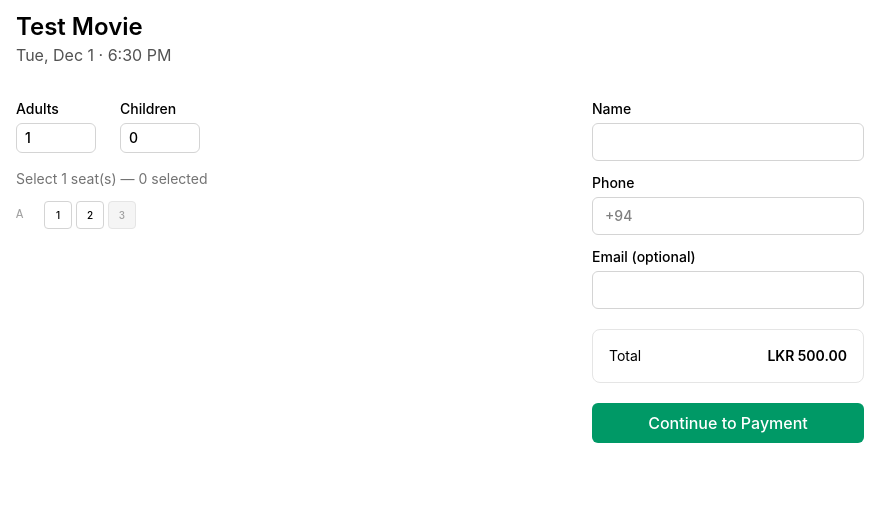
Test: SeatBookingPage › blocks submission until the seat count matches the tickets
Type "Test Customer" into the field labelled "Name" at [728, 142], box [592,123,864,161]
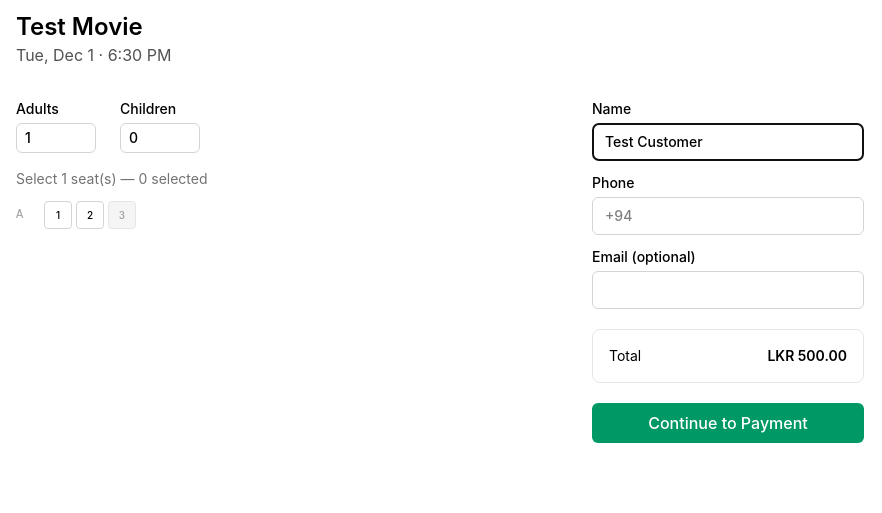
Type "+94770000000" into the field labelled "Phone" at [728, 216], box [592,197,864,235]
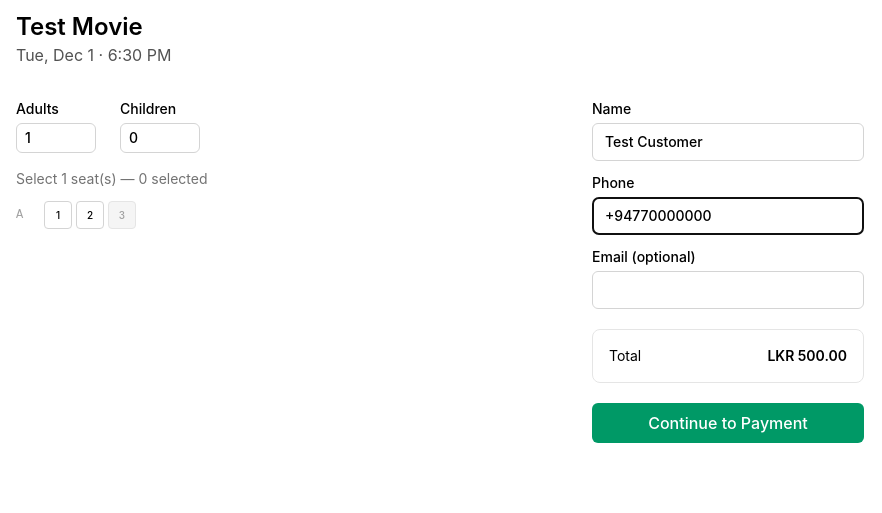
Click the button "Continue to Payment" at [728, 423], box [592,403,864,443]
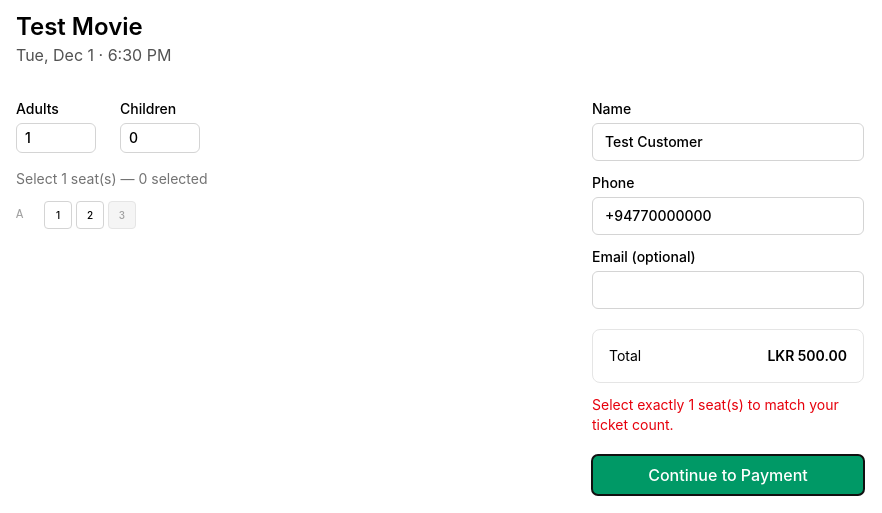
Check: the text "Select exactly 1 seat(s) to match your ticket count." is shown, box [592,395,864,435]
